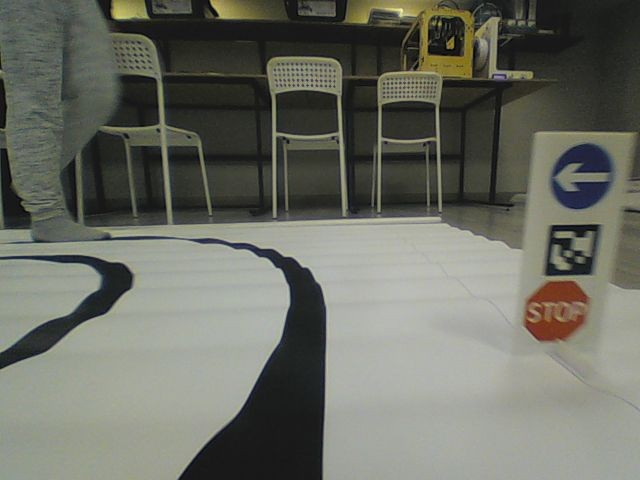Stop: (524, 277, 590, 342)
